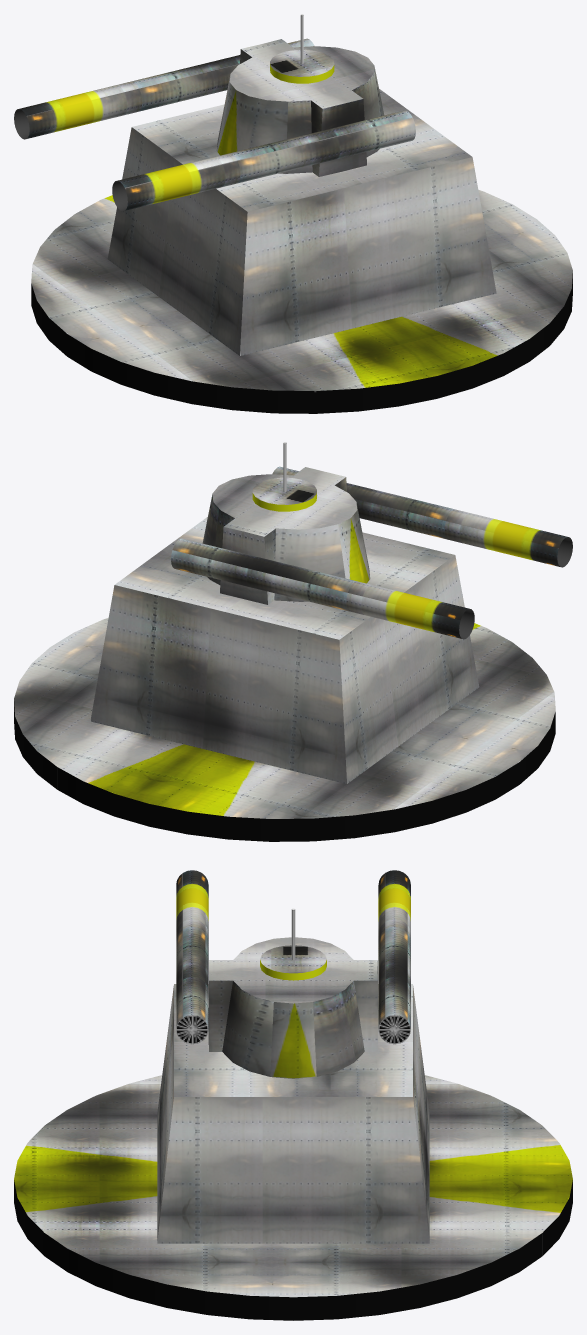
Rendered from towerA_Yellow.fbx.
3 views of the same model, one above another, from view 1: azimuth 30°, elevation 25°; view 2: azimuth 150°, elevation 25°; view 3: azimuth 270°, elevation 25° (orthographic). The views are drawn at different scales.
Parts seen in each view (by area): view 1: polySurface1; view 2: polySurface1; view 3: polySurface1.
Part boxes in pixels (x1=…): polySurface1: x1=14, y1=14, x2=572, y2=413; polySurface1: x1=14, y1=442, x2=572, y2=841; polySurface1: x1=14, y1=870, x2=572, y2=1320.
Bounding box in the file's own units: 15.96 × 9.24 × 15.96.
1 material, 1 textured.
